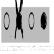correct: (40, 10, 47, 31)
not correct: (13, 0, 24, 42)
